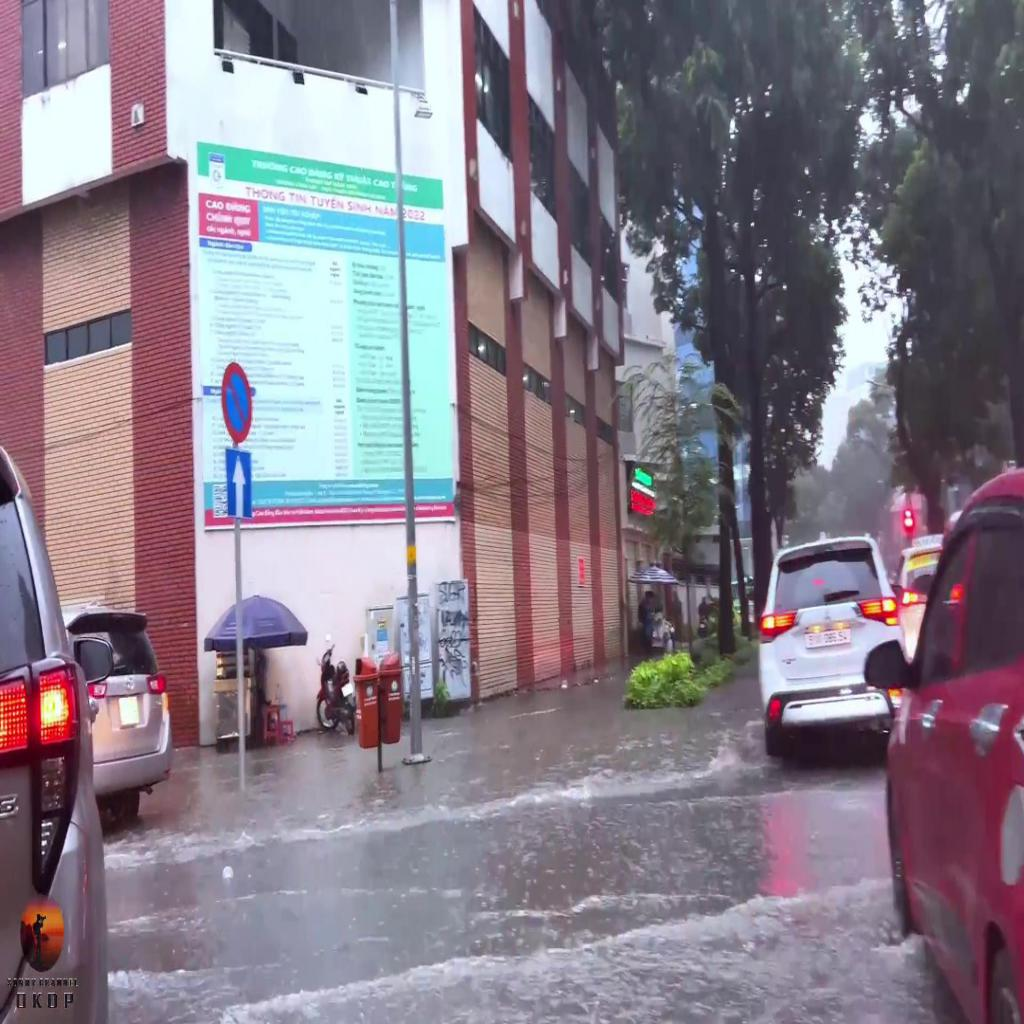cam_do_xe: (222, 360, 252, 444)
duong_mot_chieu: (226, 446, 252, 518)
